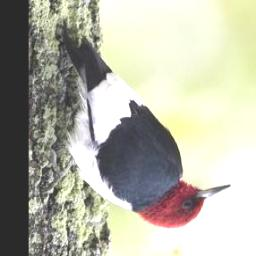Woodpecker: (47, 22, 241, 233)
